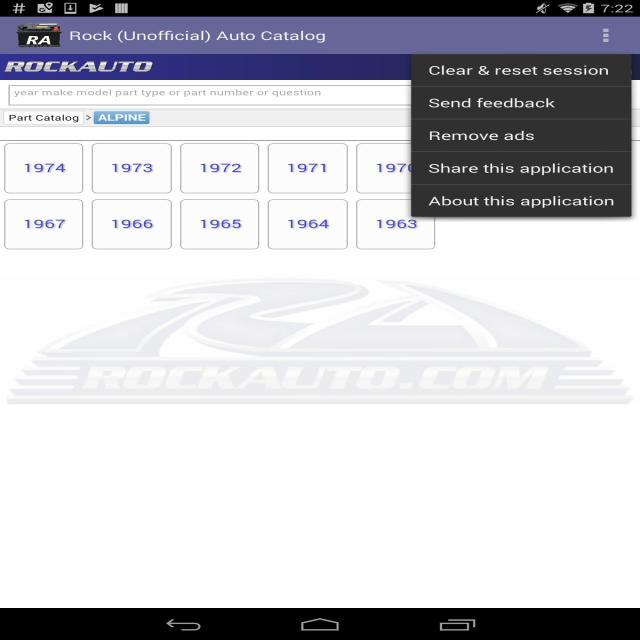button: (409, 56, 631, 86), (412, 87, 630, 117), (413, 119, 630, 149), (412, 153, 632, 182), (412, 187, 630, 216), (181, 144, 261, 193), (268, 143, 348, 192), (92, 199, 170, 249), (268, 200, 347, 248), (359, 144, 433, 194), (95, 144, 172, 192), (182, 200, 258, 248), (7, 144, 82, 192), (5, 200, 80, 248), (358, 203, 435, 248), (582, 26, 627, 51)
field: (8, 87, 410, 103)
heading: (68, 29, 329, 46), (0, 58, 159, 76)
image: (5, 278, 640, 408), (18, 20, 59, 46)
label: (10, 89, 326, 97)
text: (7, 112, 80, 124), (97, 113, 148, 124)
